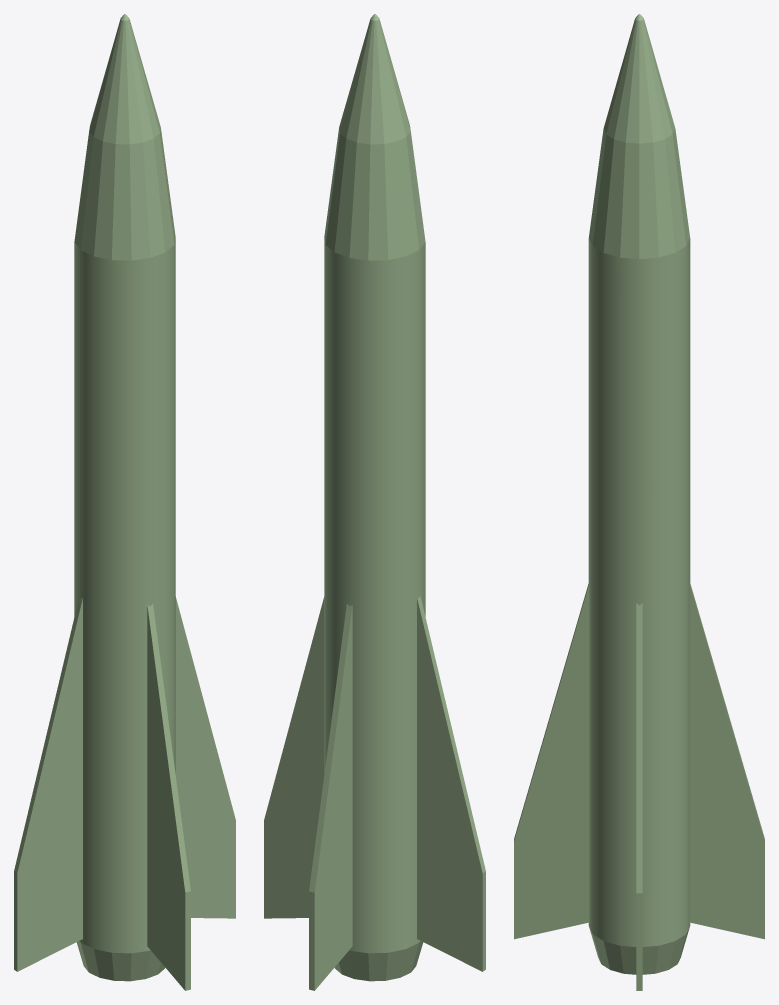
The model's file is BallisticMissile_02.fbx.
3 renders of one model, left to right at view 1: azimuth 30°, elevation 25°; view 2: azimuth 150°, elevation 25°; view 3: azimuth 270°, elevation 25°, orthographic.
Visible parts, largest first — view 1: BallisticMissile_02_Body; view 2: BallisticMissile_02_Body; view 3: BallisticMissile_02_Body.
Boxes of the visible parts, <box> form: BallisticMissile_02_Body: <box>14,14,235,990</box>; BallisticMissile_02_Body: <box>264,14,485,990</box>; BallisticMissile_02_Body: <box>514,14,764,990</box>.
Bounding box in the file's own units: 8.81 × 36.56 × 8.81.
